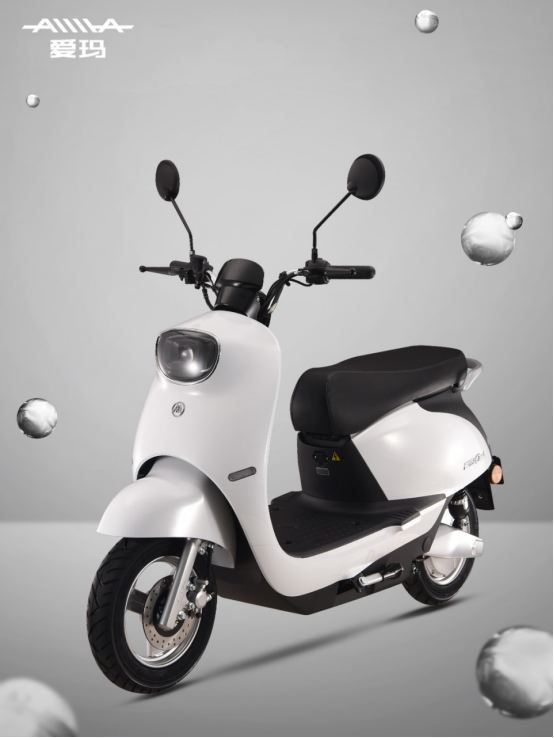MNV: (87, 157, 506, 688)
